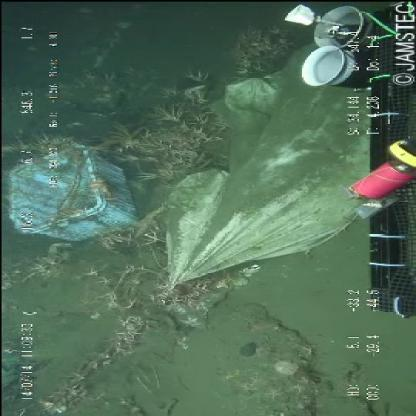Rov: (266, 1, 414, 331)
Rác: (2, 138, 146, 242)
